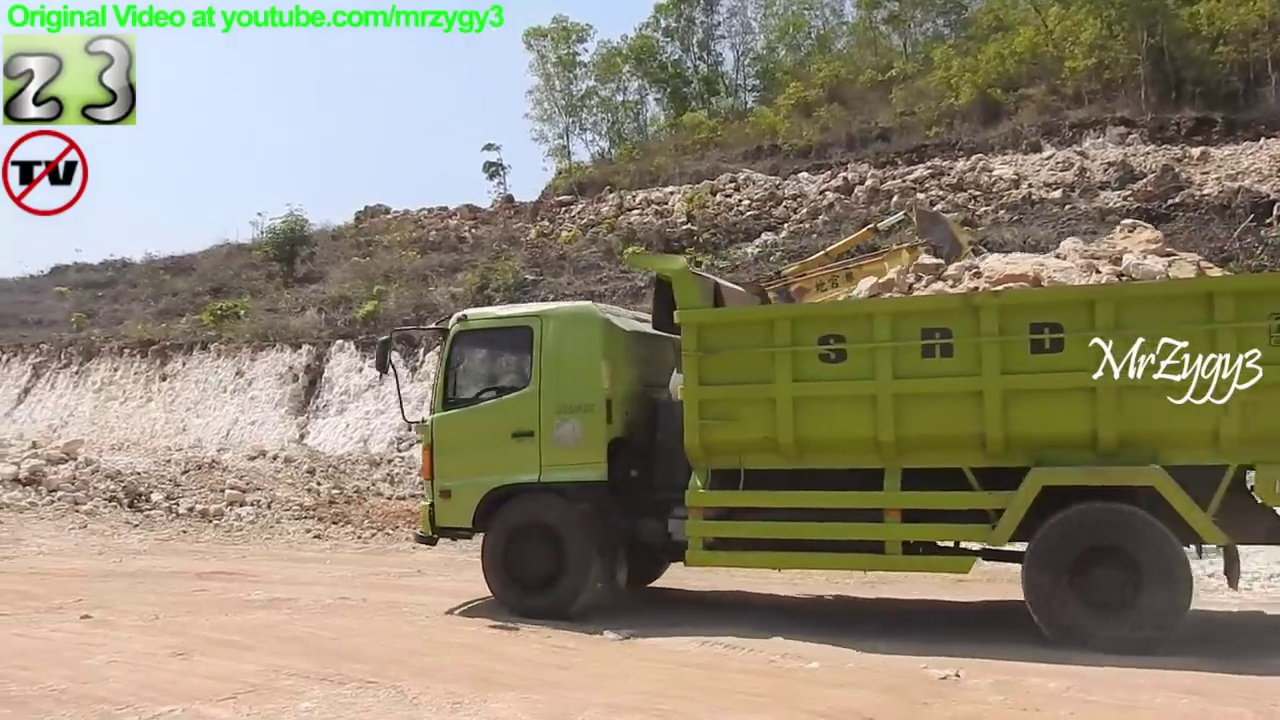excavator: (575, 199, 1110, 534)
truck: (365, 244, 1280, 655)
